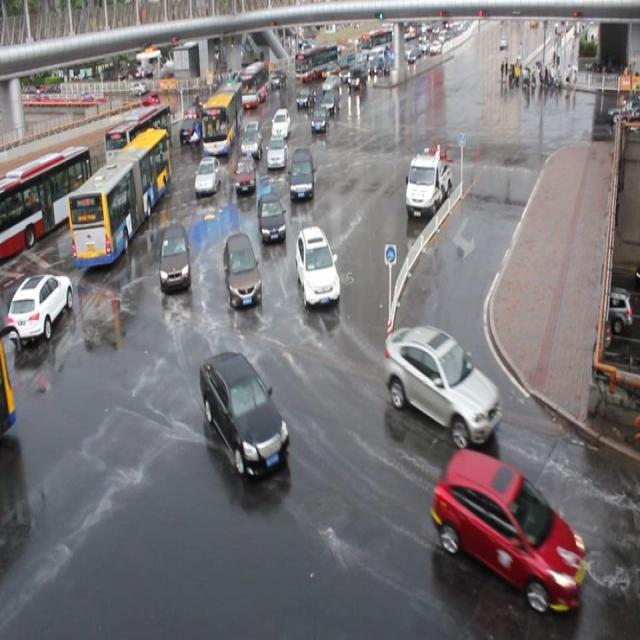bus: (405, 149, 452, 217)
car: (435, 448, 581, 608), (384, 320, 502, 448), (200, 344, 290, 481), (9, 270, 74, 348), (296, 225, 342, 310), (222, 230, 262, 306), (160, 222, 192, 288), (256, 190, 284, 243), (289, 145, 314, 199), (194, 153, 222, 197), (234, 153, 257, 197), (242, 119, 263, 160), (265, 132, 284, 171), (271, 106, 291, 137), (307, 106, 328, 135), (179, 117, 200, 145), (295, 82, 314, 109), (190, 89, 208, 114), (322, 88, 340, 112), (183, 102, 205, 121)
van: (68, 129, 174, 264), (1, 147, 92, 260), (107, 103, 171, 165), (204, 77, 243, 160), (238, 60, 269, 111)
